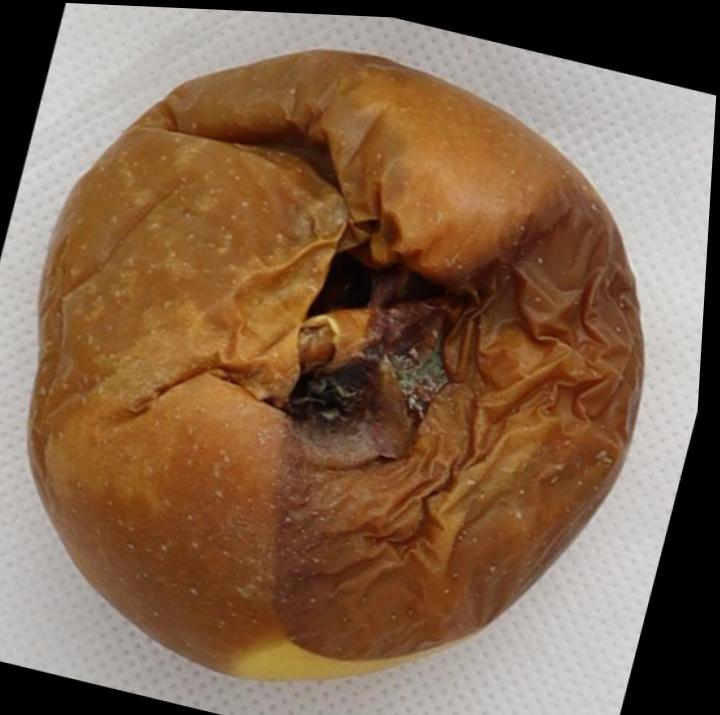apple: (28, 49, 643, 678)
rot_mold_decay: (29, 49, 642, 665)
